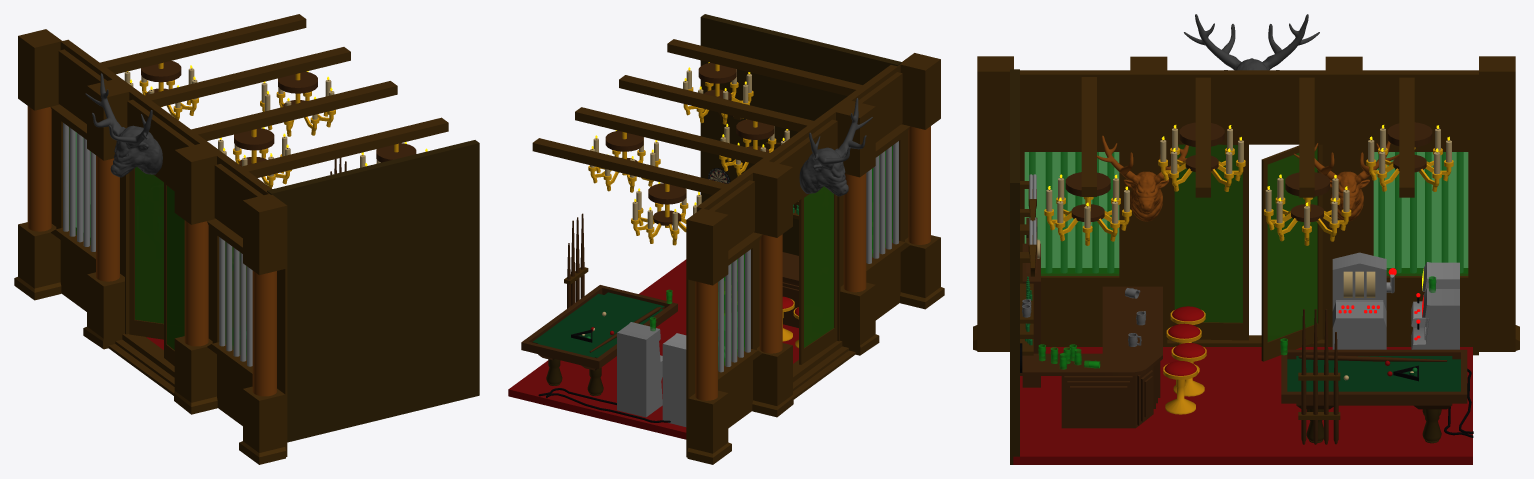
File: cp_pub_clasico.glb
3 renders of one model, left to right at view 1: azimuth 30°, elevation 25°; view 2: azimuth 150°, elevation 25°; view 3: azimuth 270°, elevation 25°, orthographic. The views are drawn at different scales.
Visible parts, largest first — view 1: Box002, Box004_13 - Default_0, PivotDoor001, Box016, Box014, Box013, Box015, Cylinder281_20 - Default_0, Cylinder282_20 - Default_0, Cylinder283_20 - Default_0, WITH UV MAPS002, Cylinder284_20 - Default_0 (+16 smaller); view 2: Box004_13 - Default_0, Box002, Box001, PivotDoor001, Box019, Box018, Box016, Box014, Box015, Box013, Cylinder284_20 - Default_0, Cylinder281_20 - Default_0 (+21 smaller); view 3: Box004_13 - Default_0, Box001, PivotDoor001, Box006, Box049, Box019, Box048, Box050, Box002, Box018, WITH UV MAPS, WITH UV MAPS002 (+22 smaller).
Part boxes in pixels (left/top/right/bottom): Box002: left=267, top=140, right=479, bottom=442; Box004_13 - Default_0: left=14, top=29, right=287, bottom=464; PivotDoor001: left=125, top=166, right=184, bottom=365; Box016: left=242, top=117, right=448, bottom=177; Box014: left=100, top=14, right=306, bottom=74; Box013: left=191, top=81, right=397, bottom=140; Box015: left=145, top=47, right=350, bottom=106; Cylinder281_20 - Default_0: left=184, top=220, right=208, bottom=346; Cylinder282_20 - Default_0: left=252, top=271, right=276, bottom=396; Cylinder283_20 - Default_0: left=27, top=106, right=51, bottom=231; WITH UV MAPS002: left=85, top=73, right=162, bottom=177; Cylinder284_20 - Default_0: left=96, top=155, right=119, bottom=281; Box004_13 - Default_0: left=686, top=53, right=944, bottom=464; Box002: left=700, top=14, right=901, bottom=255; Box001: left=508, top=259, right=798, bottom=439; PivotDoor001: left=793, top=186, right=840, bottom=364; Box019: left=521, top=285, right=677, bottom=370; Box018: left=617, top=322, right=662, bottom=417; Box016: left=667, top=39, right=862, bottom=95; Box014: left=532, top=138, right=727, bottom=194; Box015: left=575, top=107, right=769, bottom=163; Box013: left=619, top=75, right=813, bottom=131; Cylinder284_20 - Default_0: left=759, top=234, right=782, bottom=353; Cylinder281_20 - Default_0: left=843, top=173, right=866, bottom=292; Box004_13 - Default_0: left=973, top=56, right=1519, bottom=355; Box001: left=1013, top=347, right=1472, bottom=464; PivotDoor001: left=1167, top=144, right=1325, bottom=361; Box006: left=1020, top=286, right=1162, bottom=428; Box049: left=1373, top=152, right=1468, bottom=275; Box019: left=1281, top=349, right=1467, bottom=409; Box048: left=1024, top=152, right=1119, bottom=275; Box050: left=1332, top=252, right=1386, bottom=349; Box002: left=1010, top=69, right=1019, bottom=464; Box018: left=1411, top=288, right=1459, bottom=349; WITH UV MAPS: left=1097, top=135, right=1188, bottom=221; WITH UV MAPS002: left=1184, top=14, right=1319, bottom=70.
Bounding box in the file's own units: 213 × 213 × 332.
Materials: 25 (1 with a texture image).
